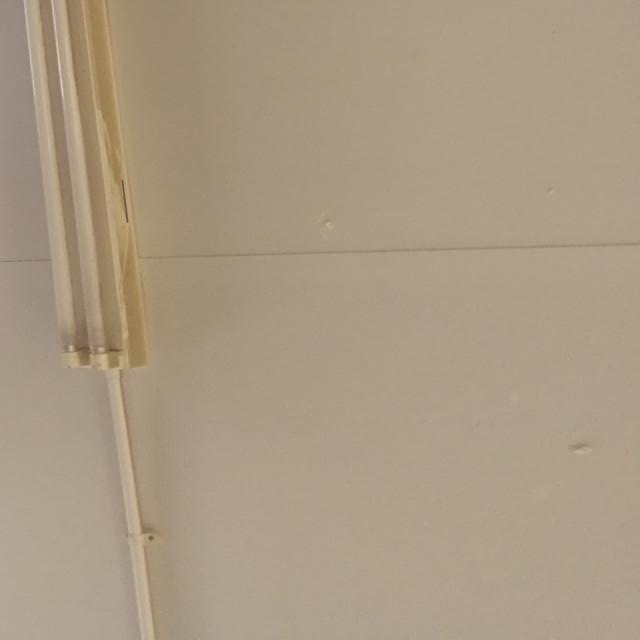fluorescent tube: (0, 0, 178, 418)
